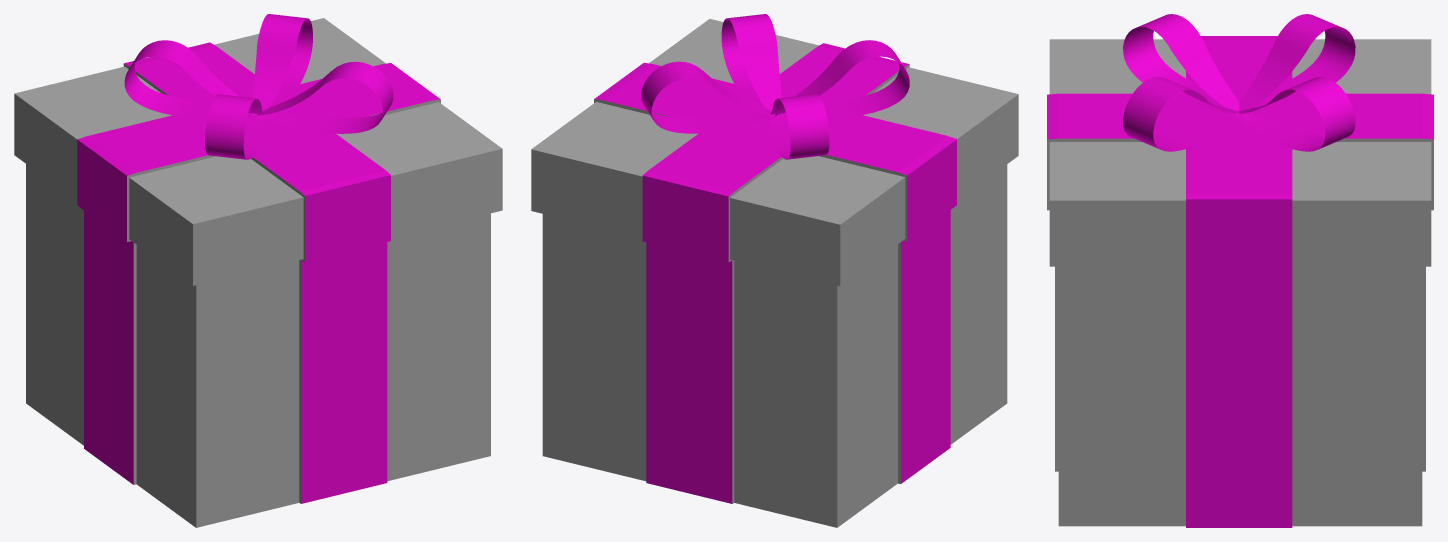
File: Present Small Pink.glb
3 views of the same model, side by side, from view 1: azimuth 30°, elevation 25°; view 2: azimuth 150°, elevation 25°; view 3: azimuth 270°, elevation 25° (orthographic). The views are drawn at different scales.
Parts seen in each view (by area): view 1: Cube, BézierCircle.001, BézierCircle.003, BézierCircle, BézierCircle.004; view 2: Cube, BézierCircle, BézierCircle.004, BézierCircle.001, BézierCircle.003; view 3: Cube, BézierCircle.003, BézierCircle.004, BézierCircle.001, BézierCircle.
Part boxes in pixels (box(x1,y1,x2,y2)): Cube: box(14, 18, 502, 527); BézierCircle.001: box(253, 14, 312, 110); BézierCircle.003: box(124, 40, 258, 118); BézierCircle: box(258, 61, 393, 133); BézierCircle.004: box(205, 94, 264, 159); Cube: box(531, 19, 1018, 527); BézierCircle: box(721, 14, 781, 110); BézierCircle.004: box(776, 40, 909, 118); BézierCircle.001: box(641, 61, 776, 133); BézierCircle.003: box(769, 94, 829, 159); Cube: box(1047, 36, 1433, 527); BézierCircle.003: box(1239, 14, 1355, 113); BézierCircle.004: box(1123, 14, 1239, 113); BézierCircle.001: box(1236, 77, 1355, 151); BézierCircle: box(1123, 77, 1242, 151).
Size of the model in its own units: 0.4257 by 0.4805 by 0.4257.
